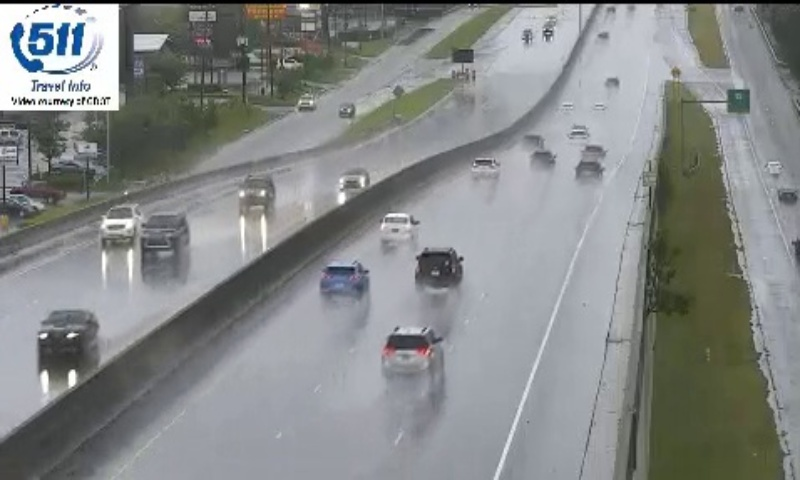car: (381, 325, 441, 379), (415, 249, 461, 285), (321, 262, 366, 297), (379, 211, 416, 245), (470, 158, 498, 179), (575, 160, 601, 182)
